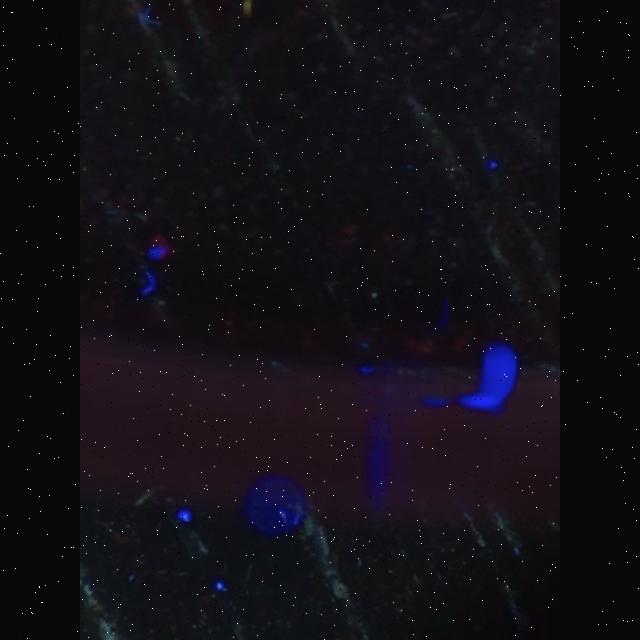microbeads: (241, 0, 255, 15)
